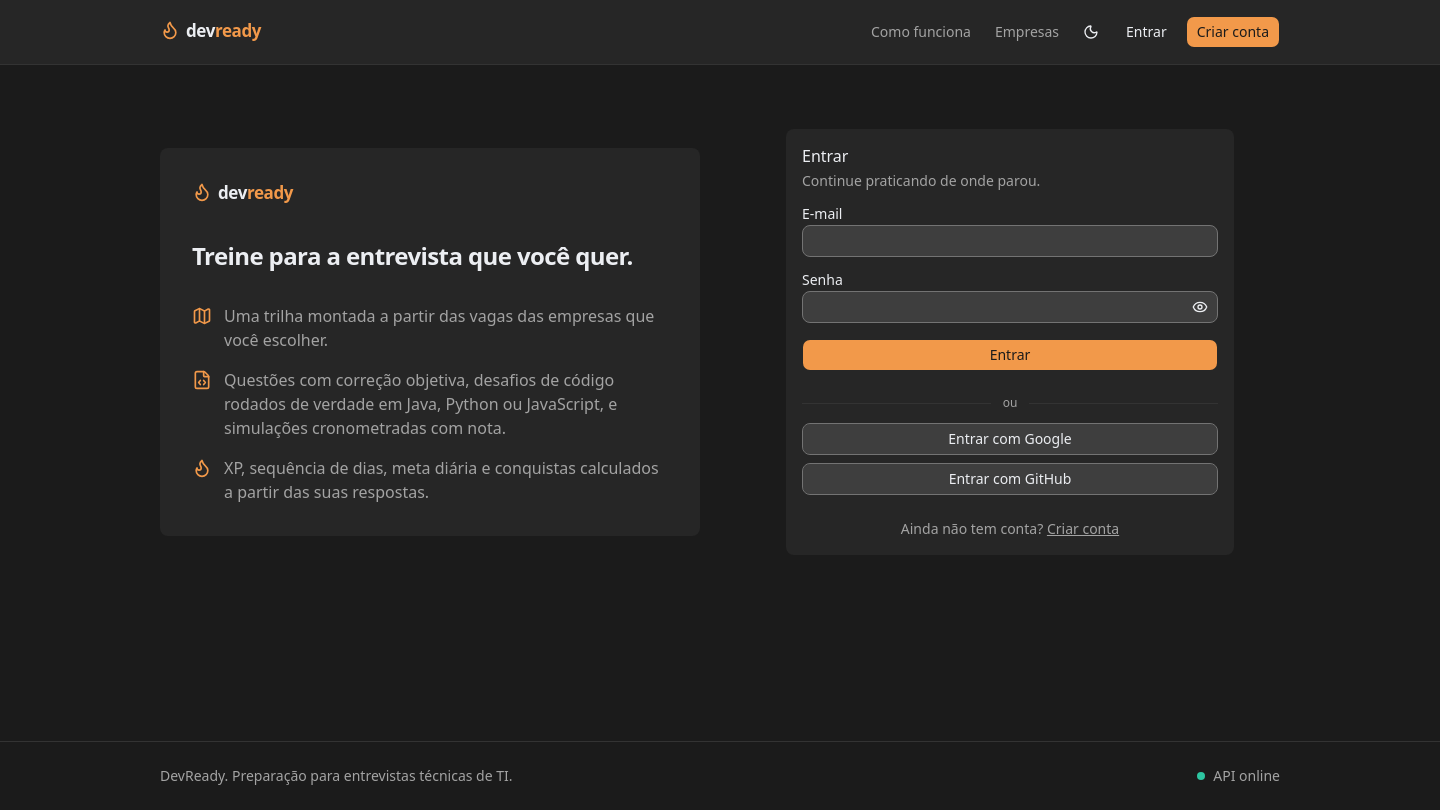
Scenario: LoginPage › mostra o detail do limite de tentativas (429)
The image size is (1440, 810).
Type "ana@example.com" into the field labelled "E-mail" at (1010, 241), box [802,225,1218,257]
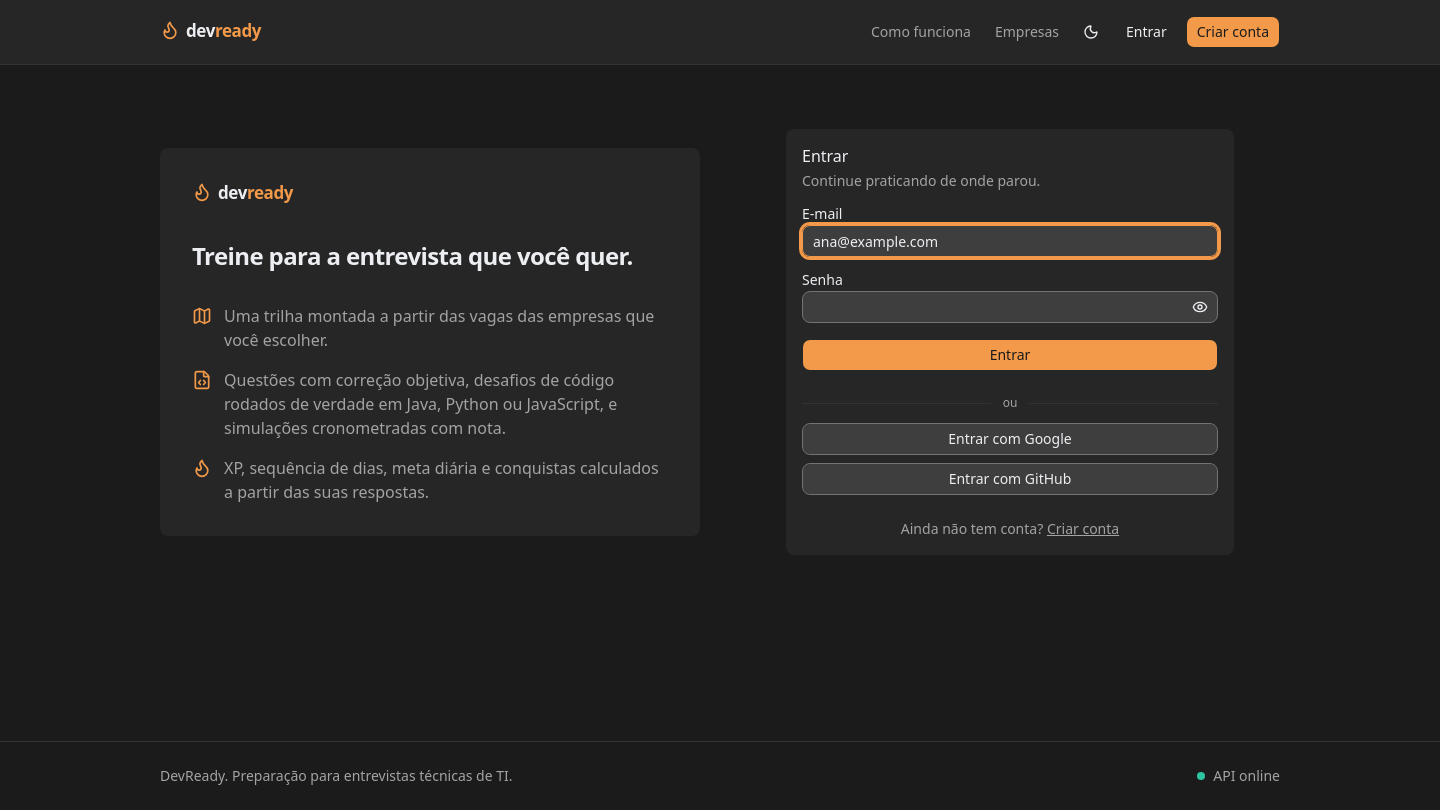
Type "senha-forte" into the password field labelled "Senha" at (1010, 307), box [802,291,1218,323]
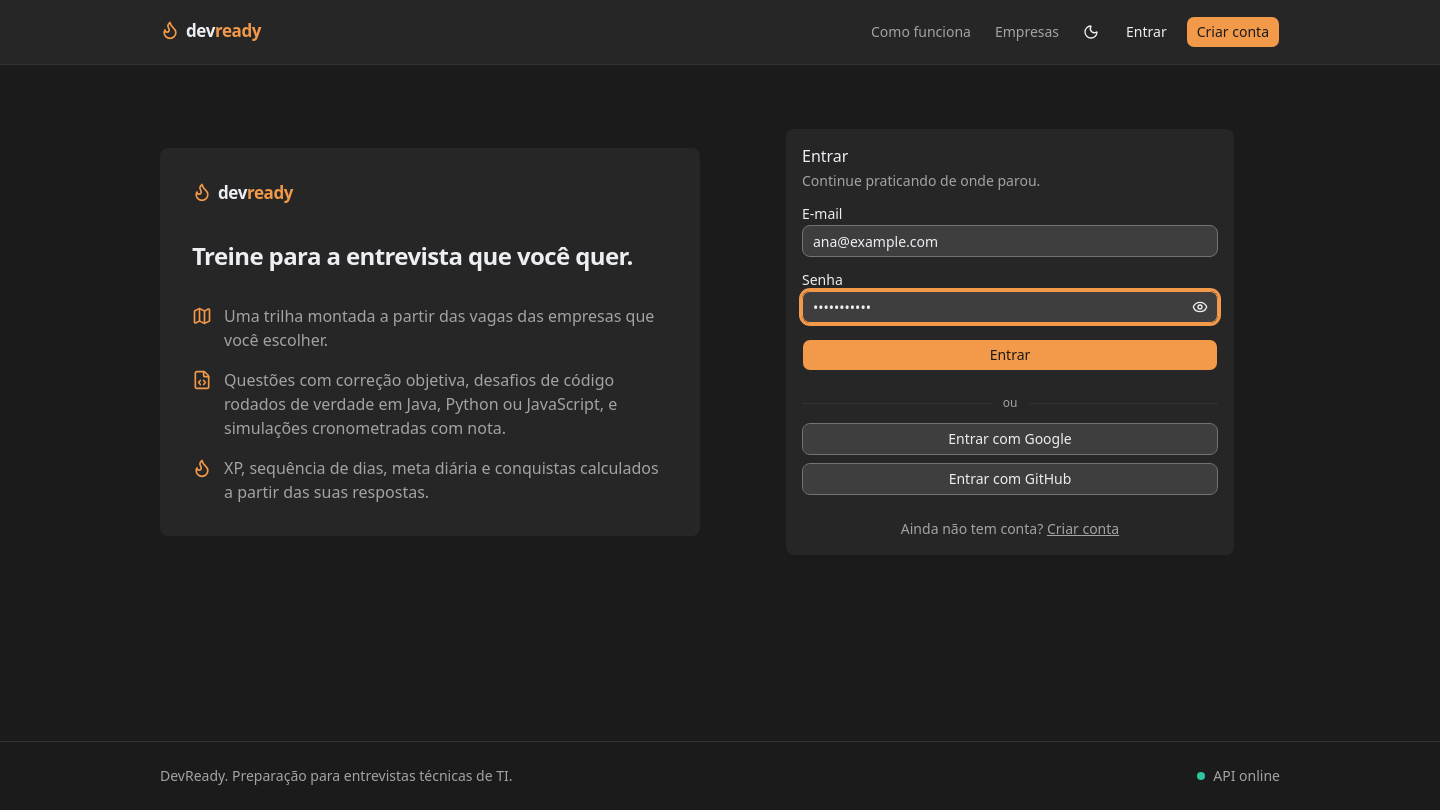
Click the button "Entrar" at (1010, 355), box [802,339,1218,371]
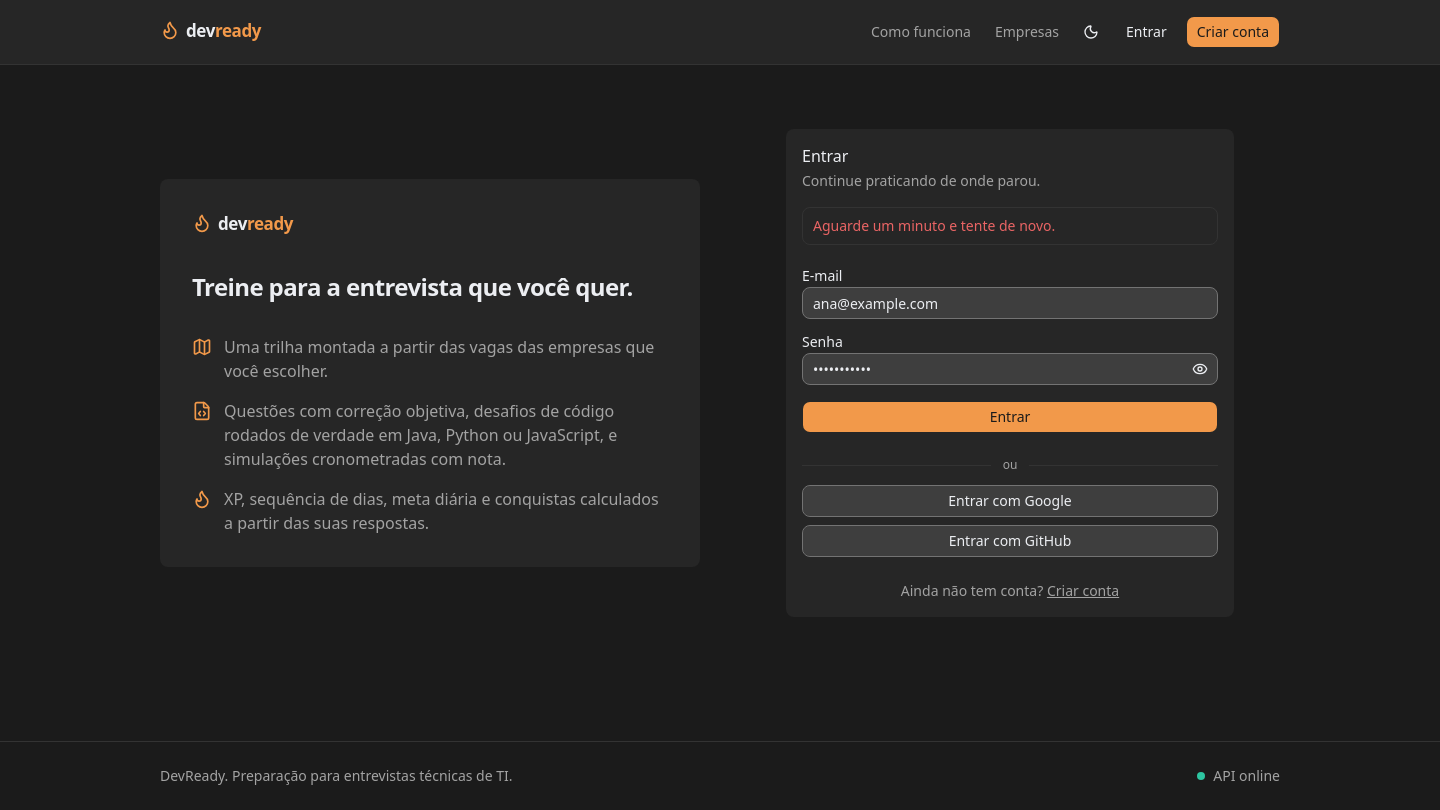
Result: the message reads "Aguarde um minuto e tente de novo." at [813,216,1055,235]
